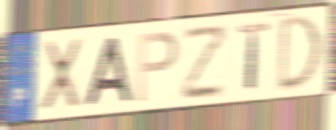A: (81, 34, 135, 109)
D: (275, 13, 324, 95)
P: (134, 30, 180, 106)
T: (236, 21, 272, 95)
X: (38, 35, 84, 113)
Z: (181, 21, 229, 103)
